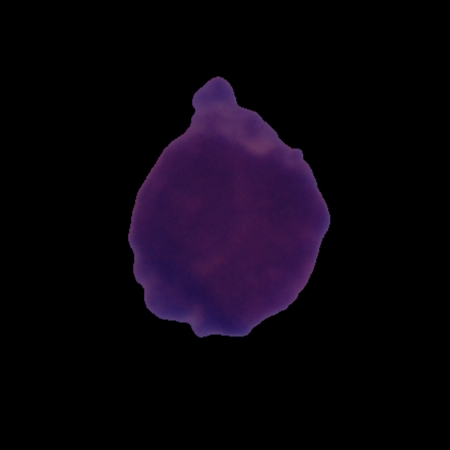ALL: (124, 71, 334, 343)
